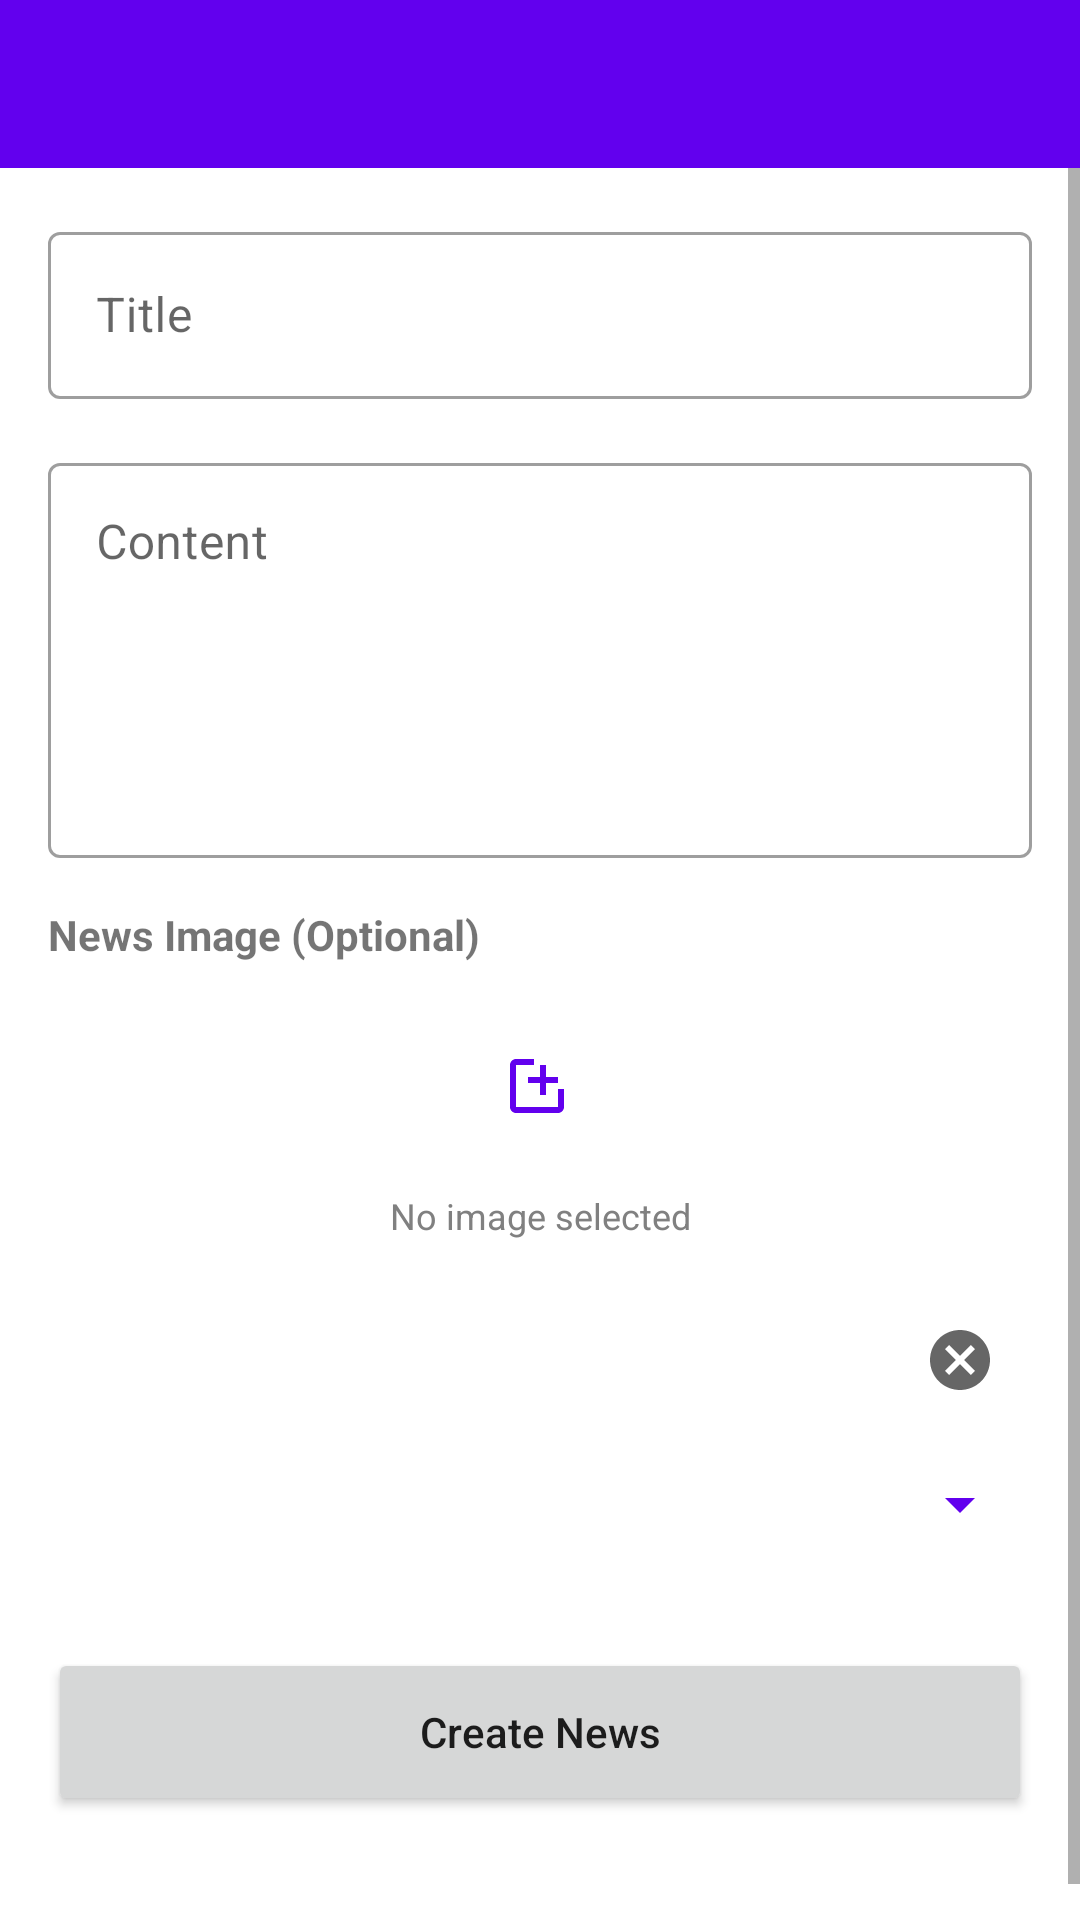

Locate icon controls on the screen. Image size 1080w x 1920h, boxes as region(x1, y1, x2, y2).
Select Image: region(510, 1059, 564, 1113)
